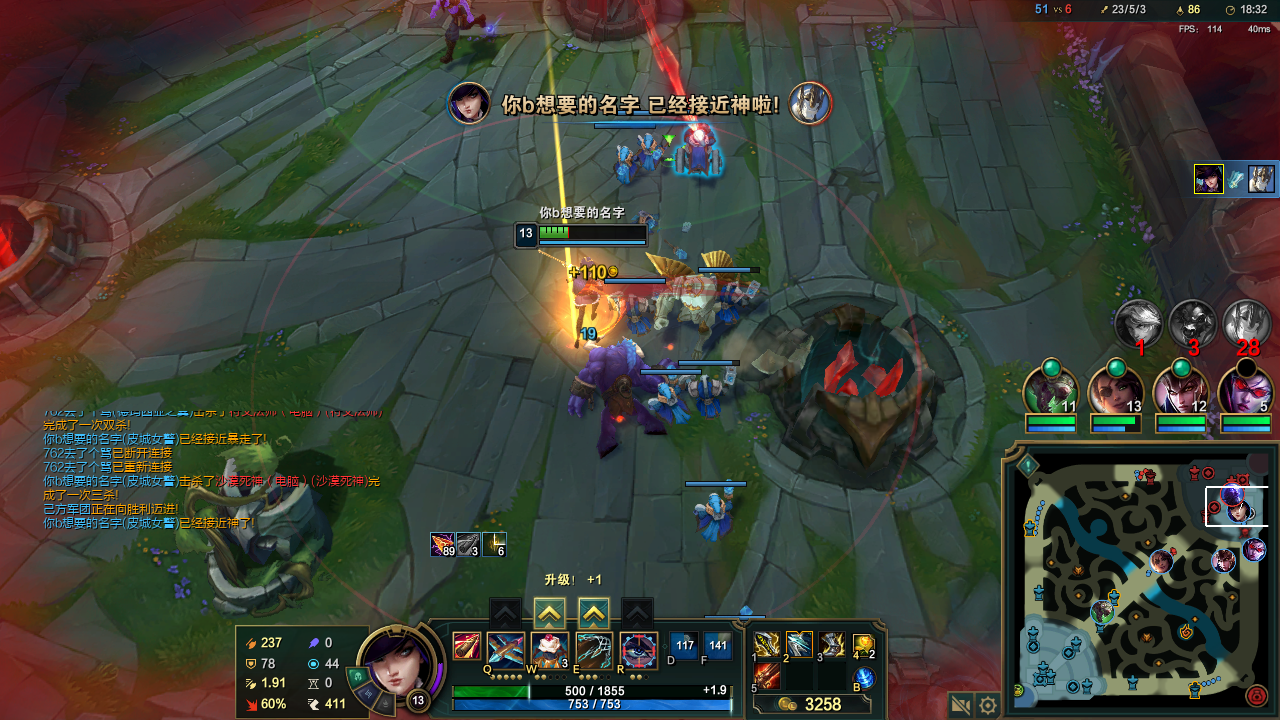WFXB: (668, 124, 721, 179), (688, 373, 732, 420), (713, 278, 755, 327), (692, 489, 744, 528), (649, 381, 692, 424), (610, 146, 642, 191), (634, 131, 668, 172), (619, 298, 657, 330)
